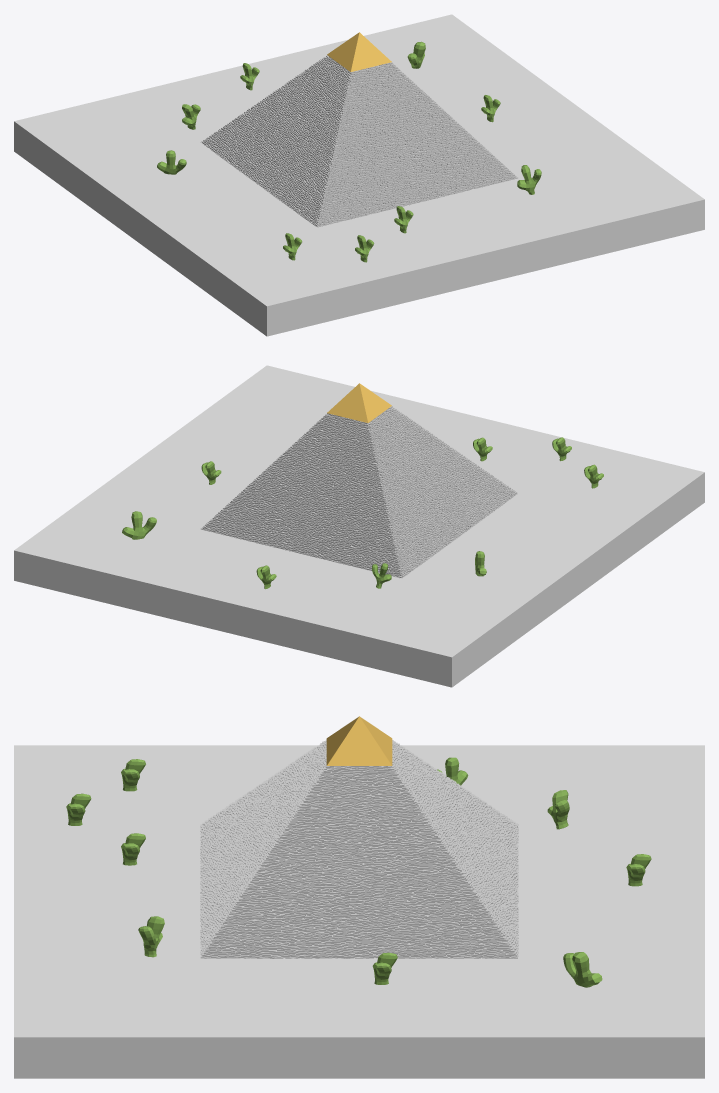
File: Diorama 5.fbx
3 renders of one model, top to bottom at view 1: azimuth 30°, elevation 25°; view 2: azimuth 150°, elevation 25°; view 3: azimuth 270°, elevation 25°, orthographic. The views are drawn at different scales.
Parts seen in each view (by area): view 1: Plano, Pyramid (Procedural); view 2: Plano, Pyramid (Procedural), Low Poly stylized cactus.007; view 3: Plano, Pyramid (Procedural), Low Poly stylized cactus.007, Low Poly stylized cactus.002, Low Poly stylized cactus.006.
Boxes of the visible parts, x1=… form: Plano: x1=14, y1=14, x2=704, y2=336; Pyramid (Procedural): x1=200, y1=32, x2=517, y2=227; Plano: x1=14, y1=365, x2=704, y2=687; Pyramid (Procedural): x1=201, y1=383, x2=517, y2=578; Low Poly stylized cactus.007: x1=122, y1=511, x2=156, y2=539; Plano: x1=14, y1=745, x2=704, y2=1078; Pyramid (Procedural): x1=200, y1=716, x2=518, y2=958; Low Poly stylized cactus.007: x1=563, y1=952, x2=602, y2=987; Low Poly stylized cactus.002: x1=138, y1=916, x2=164, y2=957; Low Poly stylized cactus.006: x1=547, y1=790, x2=569, y2=829.
Bounding box in the file's own units: 2640 × 912 × 2640.
